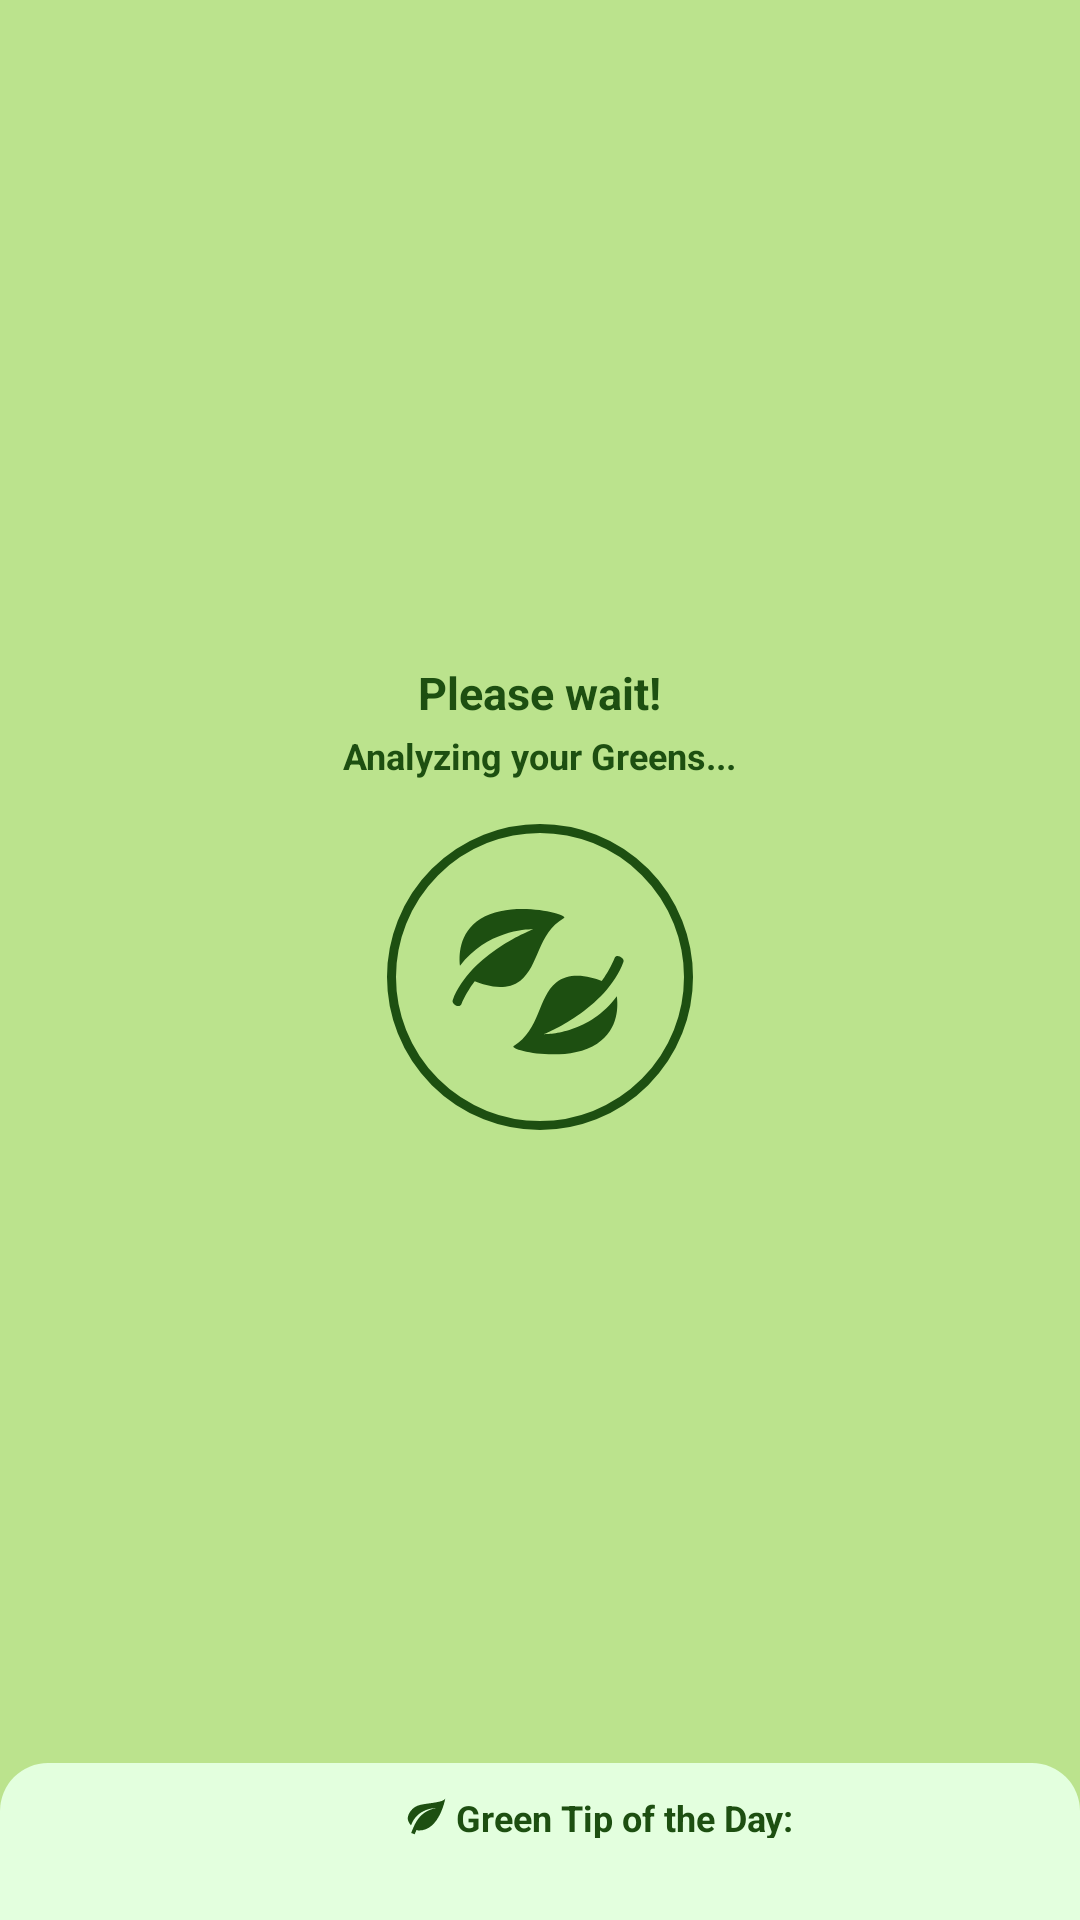

Screen size 1080w x 1920h. Icon name, then its box in pixels as (x1, y1, x2, y2):
cropspt leaf: (407, 1799, 445, 1835)
cropspt loading: (387, 824, 693, 1130)
